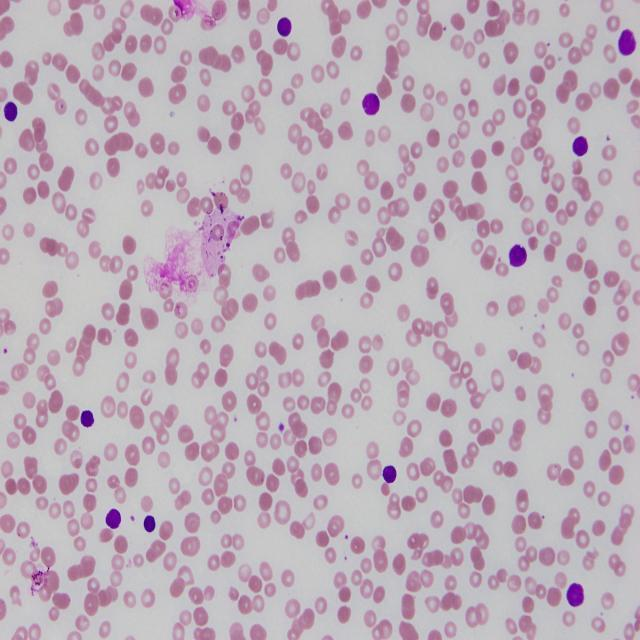cell: (566, 583, 584, 607), (619, 30, 636, 55), (509, 245, 528, 267), (362, 93, 380, 115), (572, 137, 589, 157), (105, 508, 121, 528), (4, 102, 18, 122), (278, 17, 291, 37), (382, 465, 396, 483), (80, 410, 94, 428), (144, 515, 155, 532)
